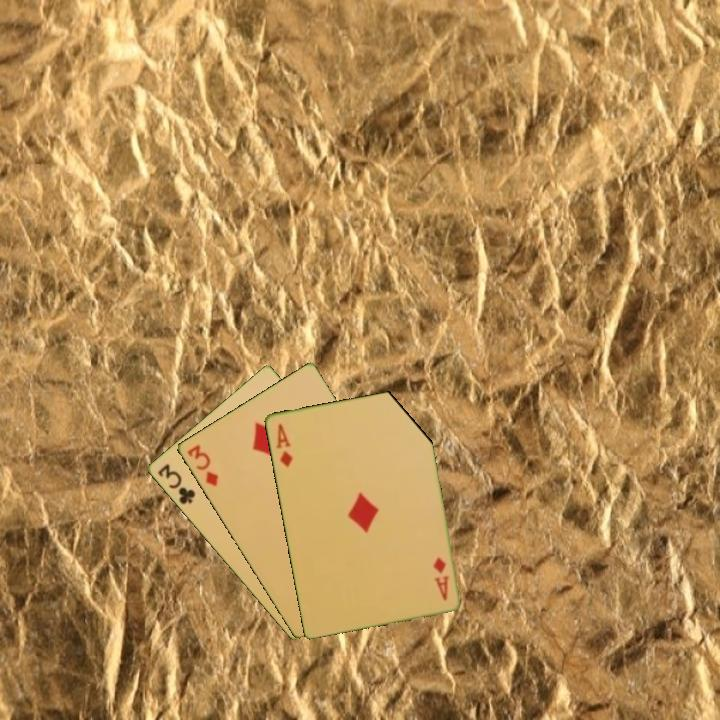3c: (154, 460, 198, 507)
3d: (183, 441, 221, 489)
Ad: (272, 420, 295, 470), (429, 553, 452, 603)
